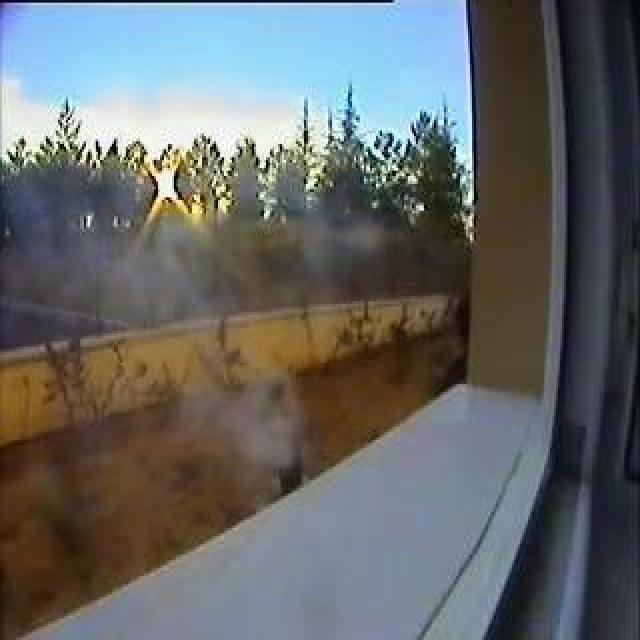Smoke: (189, 378, 297, 458)
